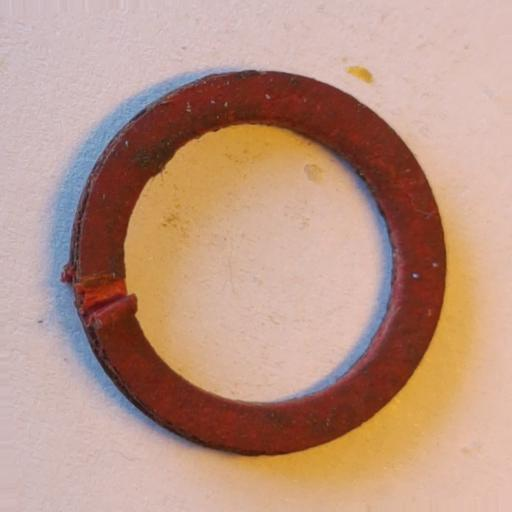defect: (59, 264, 138, 329)
